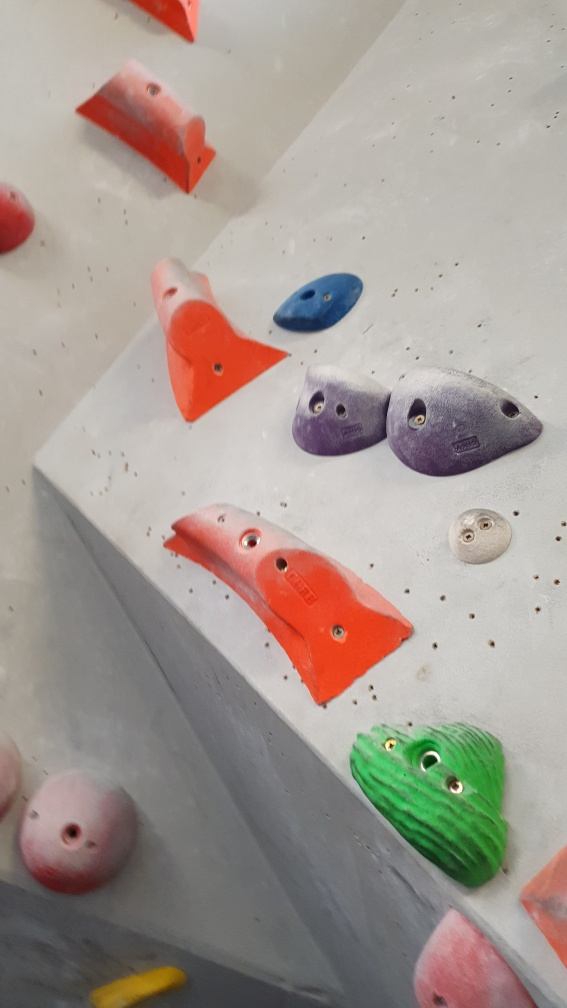Crimp: (274, 269, 370, 331)
Jug: (345, 719, 518, 879), (378, 367, 551, 474), (290, 365, 400, 462)
Pinch: (166, 501, 420, 706), (146, 251, 292, 434), (78, 57, 223, 198)
Sloper: (17, 764, 144, 900)
